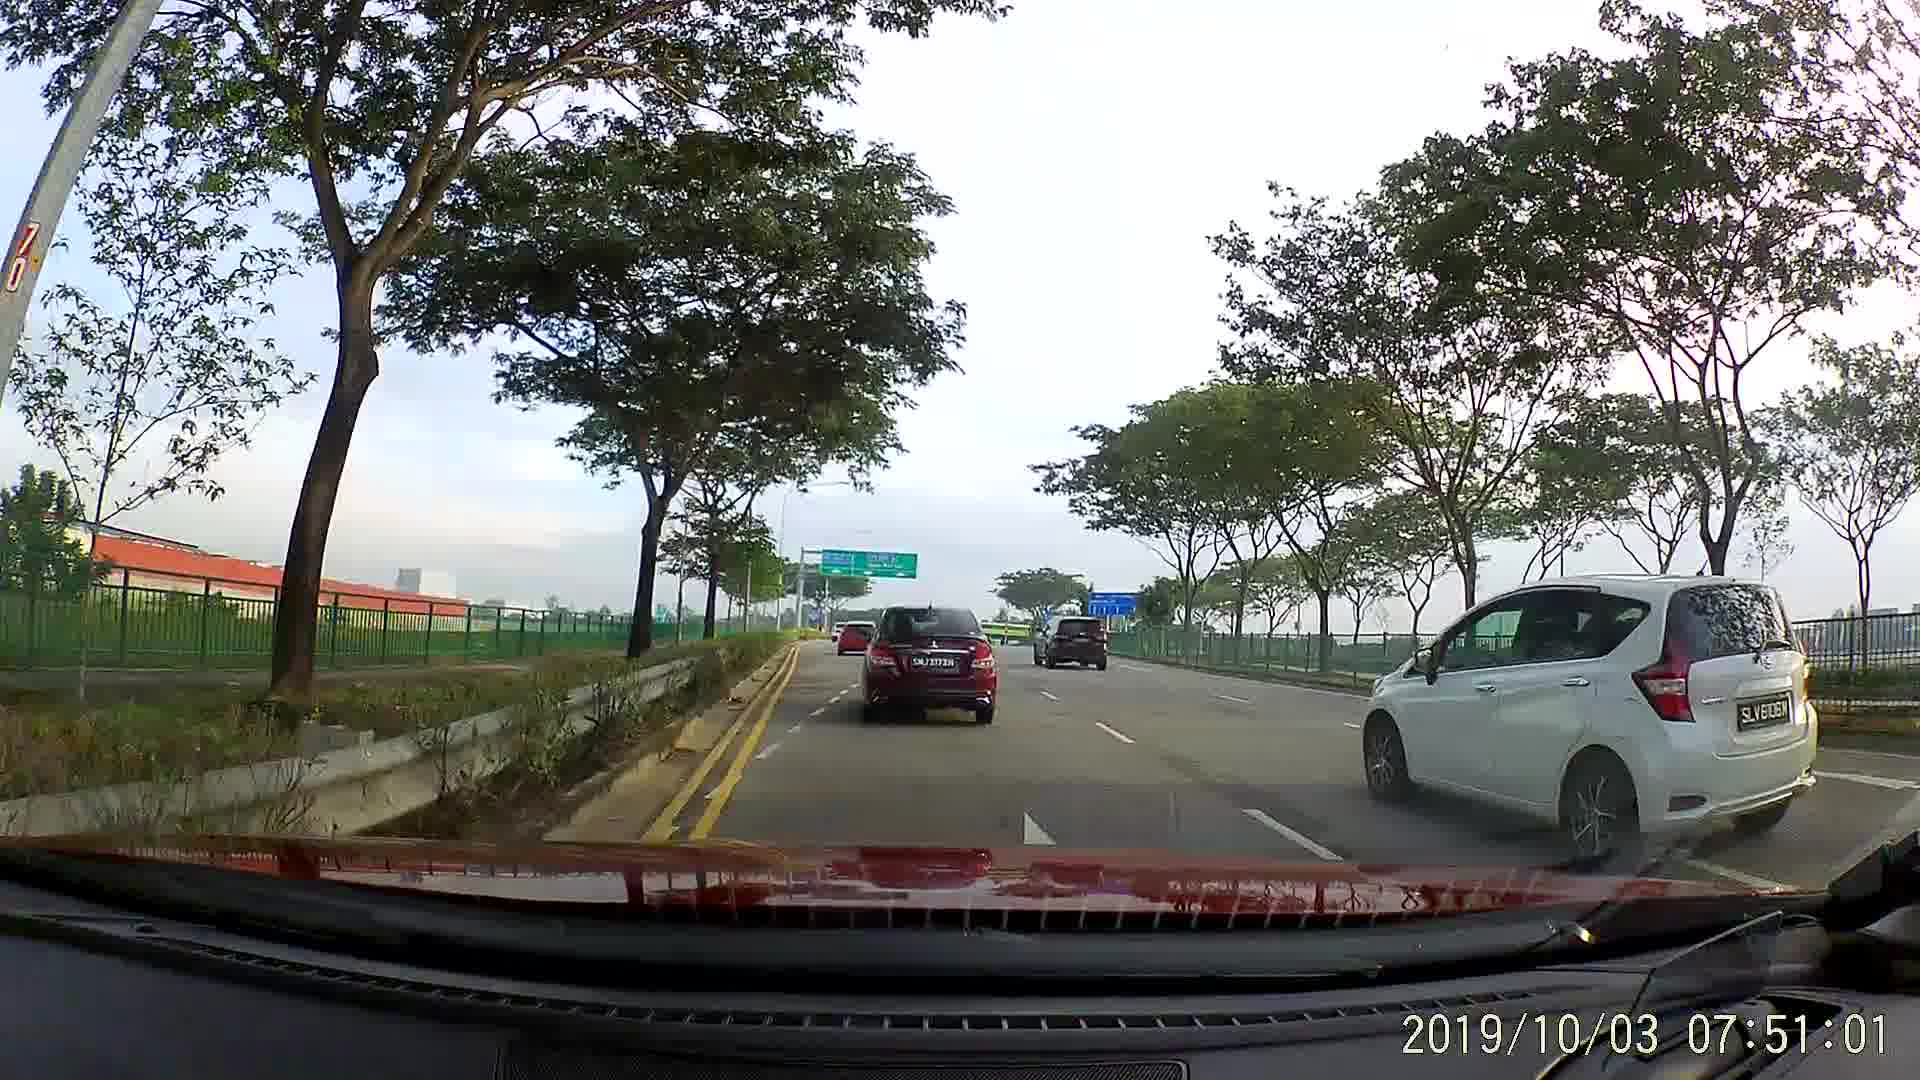car: (1358, 580, 1818, 861), (864, 605, 1000, 728), (1029, 615, 1110, 675), (836, 617, 880, 657), (825, 621, 849, 644)
